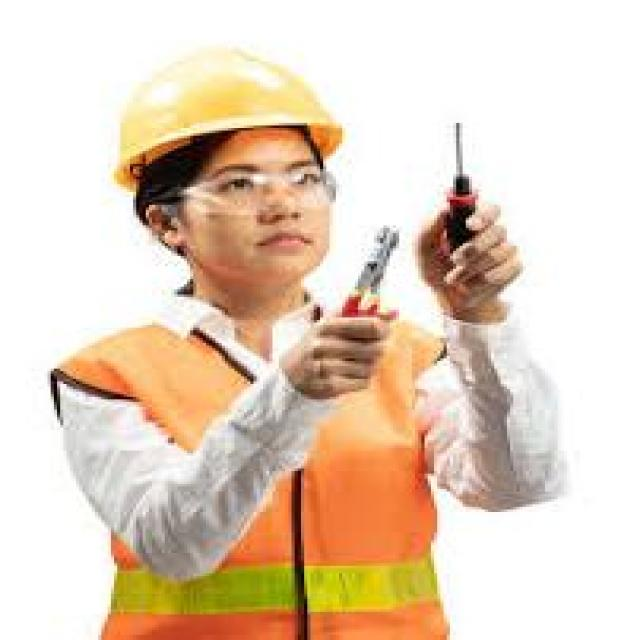Reflective-Jacket: (41, 284, 456, 638)
Safety-Helmet: (98, 38, 355, 176)
